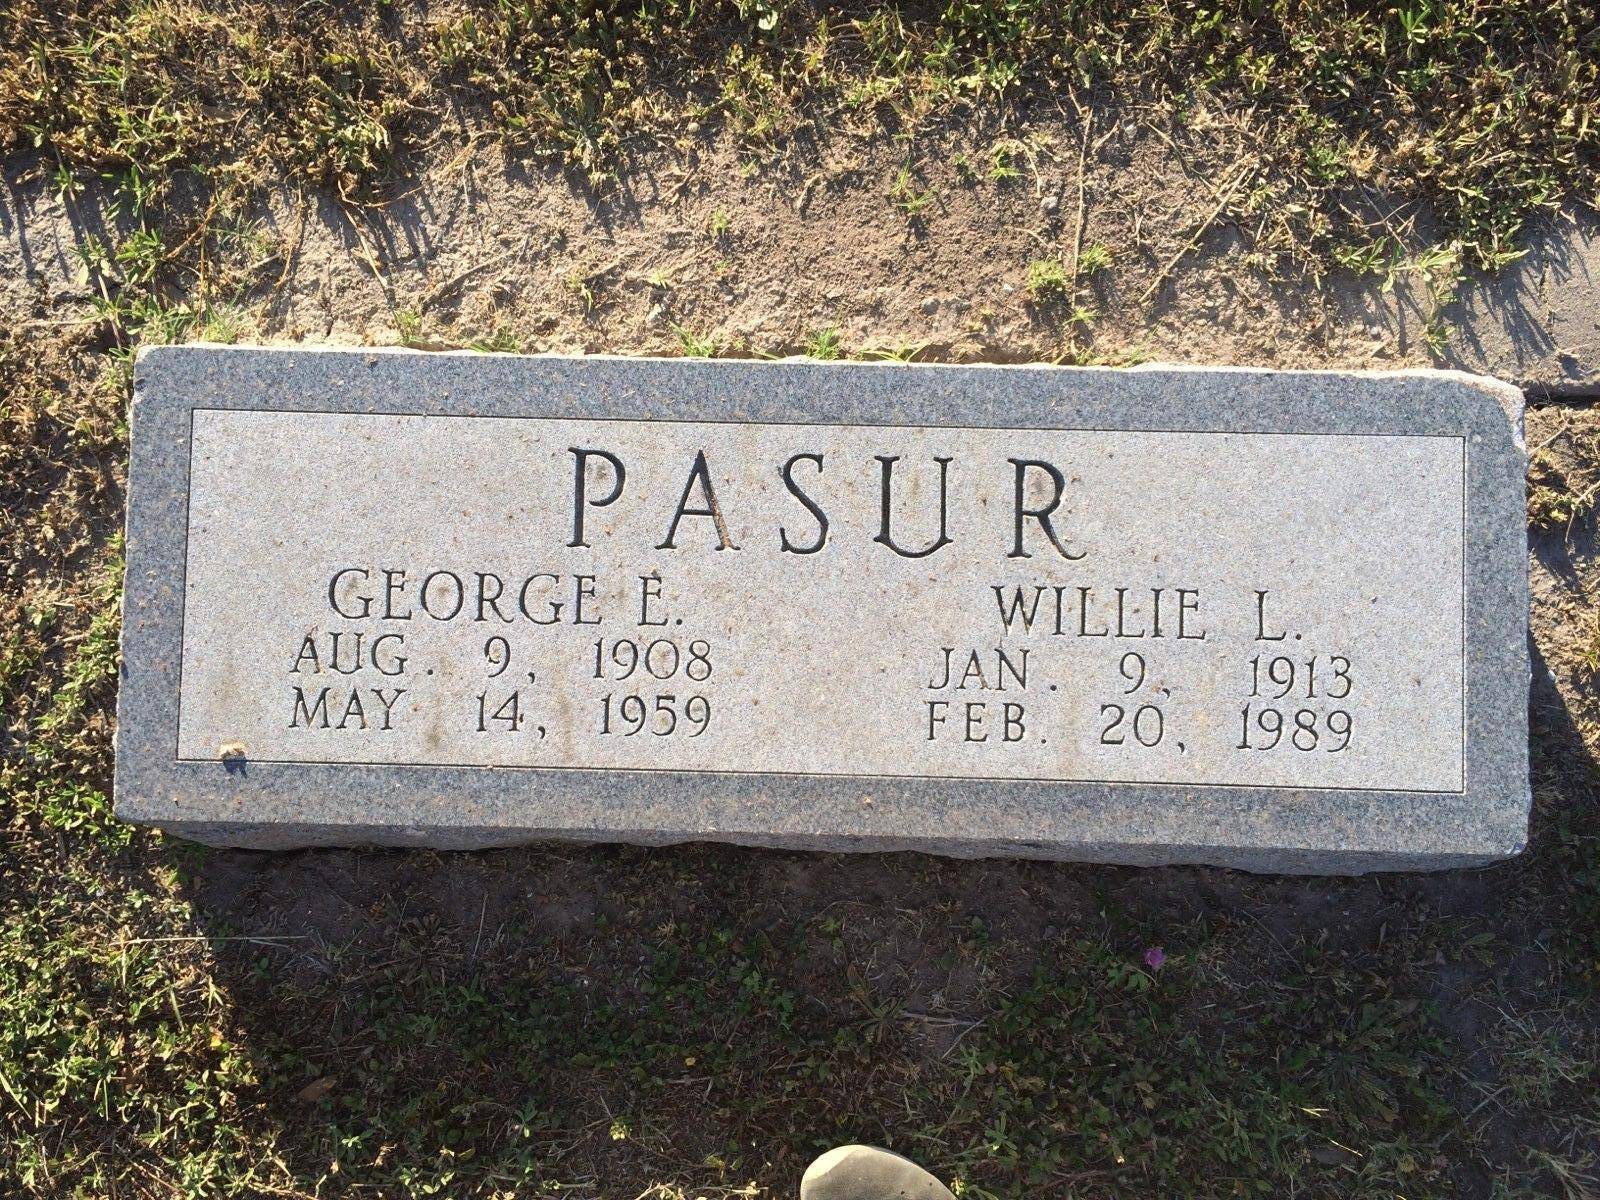flat: (87, 309, 1557, 866)
